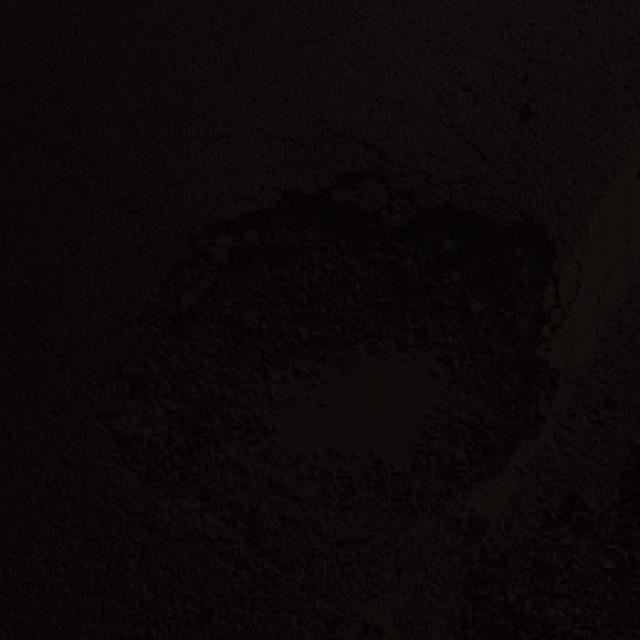Pothole: (116, 158, 560, 538)
